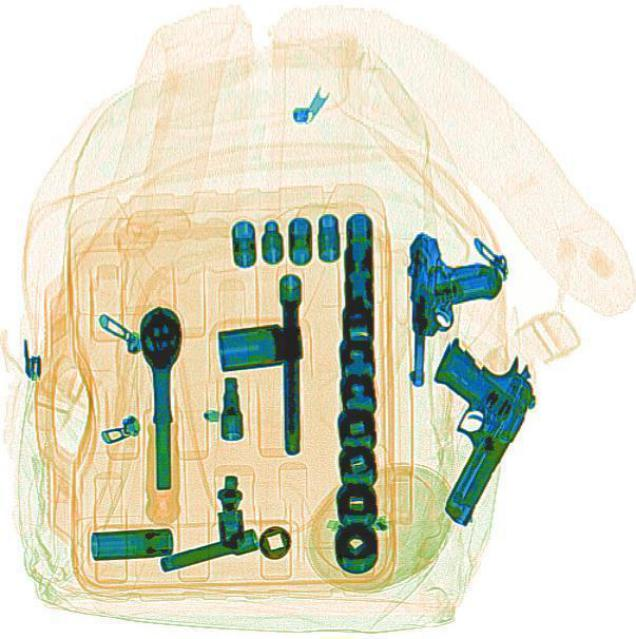Gun: (370, 327, 547, 526), (402, 230, 501, 387)
